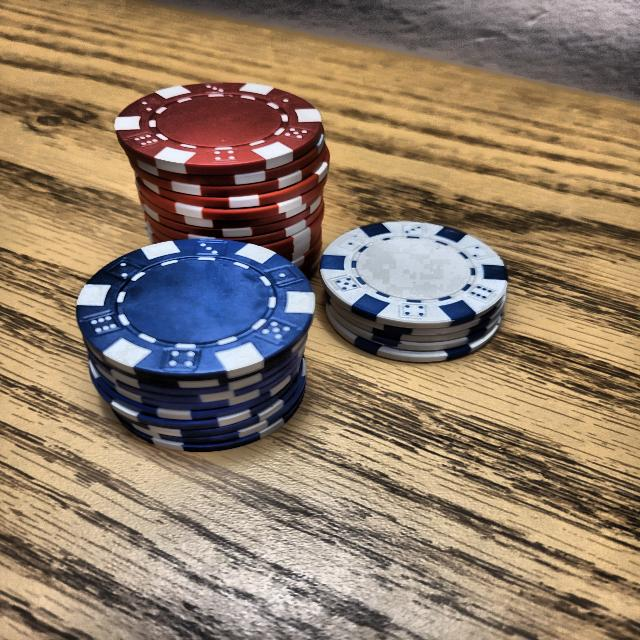Chip: (57, 201, 343, 480), (98, 62, 345, 275), (299, 192, 525, 388)
